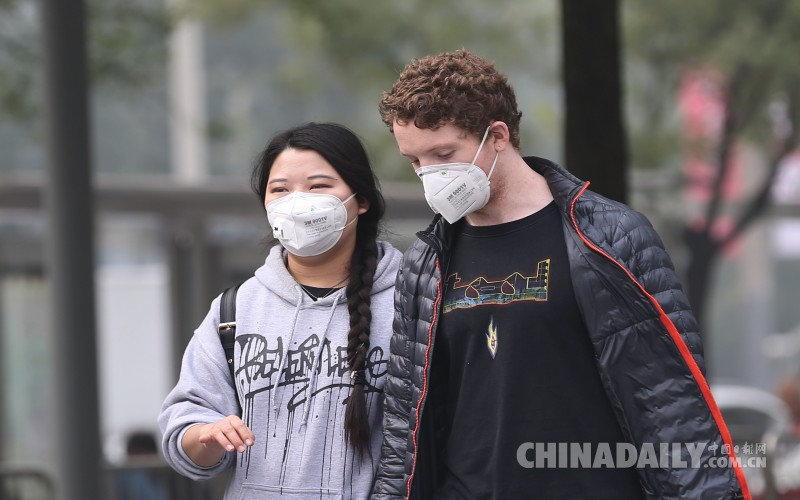mask: (404, 151, 501, 234), (263, 188, 371, 261)
